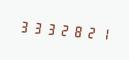eight: (69, 20, 81, 41)
one: (95, 22, 107, 43)
three: (17, 15, 29, 36), (30, 17, 42, 38), (43, 18, 55, 39)
two: (56, 19, 68, 40), (82, 21, 94, 42)
